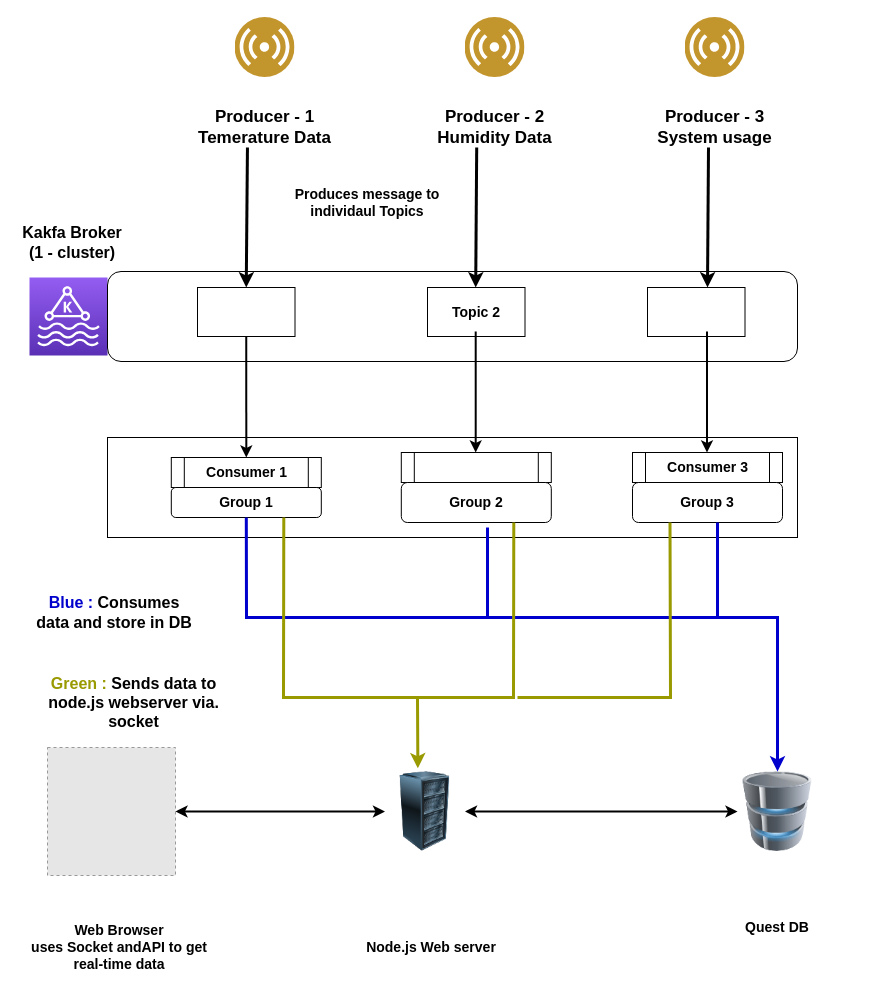
This 884x994 diagram has some shape labels left out. Grey dashed boxes stand in for pictures. Each missing label, with the centre of its shape:
"Consumer 2" belongs at (x=475, y=467).
"Topic 1" belongs at (x=245, y=311).
"Topic 3" belongs at (x=695, y=311).
